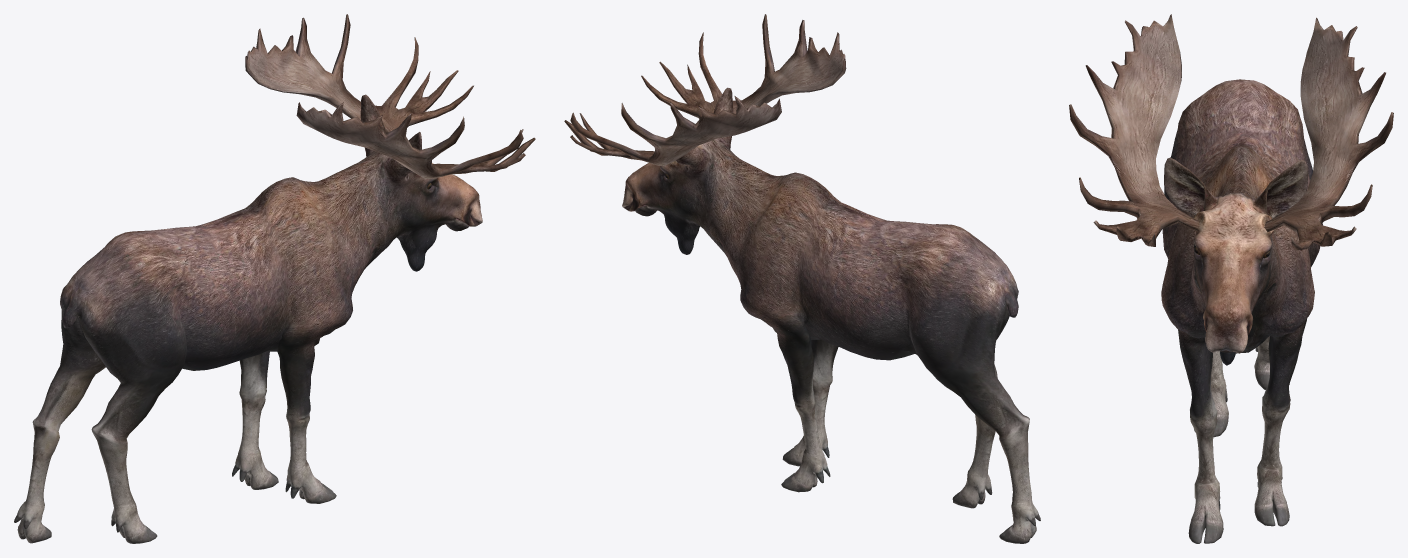
Rendered from alce.glb.
3 renders of one model, left to right at view 1: azimuth 30°, elevation 25°; view 2: azimuth 150°, elevation 25°; view 3: azimuth 270°, elevation 25°, orthographic. The views are drawn at different scales.
Visible parts, largest first — view 1: Moose.001_applied_clean_M_Moose_0, Moose.001_applied_clean_M_Moose_Antler_0; view 2: Moose.001_applied_clean_M_Moose_0, Moose.001_applied_clean_M_Moose_Antler_0; view 3: Moose.001_applied_clean_M_Moose_0, Moose.001_applied_clean_M_Moose_Antler_0.
Boxes of the visible parts, left/top/right/bottom form: Moose.001_applied_clean_M_Moose_0: left=14, top=94, right=482, bottom=543; Moose.001_applied_clean_M_Moose_Antler_0: left=245, top=14, right=535, bottom=178; Moose.001_applied_clean_M_Moose_0: left=622, top=87, right=1040, bottom=543; Moose.001_applied_clean_M_Moose_Antler_0: left=564, top=14, right=846, bottom=166; Moose.001_applied_clean_M_Moose_0: left=1161, top=79, right=1322, bottom=543; Moose.001_applied_clean_M_Moose_Antler_0: left=1069, top=14, right=1393, bottom=250.
Size of the model in its own units: 3.14 by 2.72 by 1.56.
2 materials, 2 textured.
